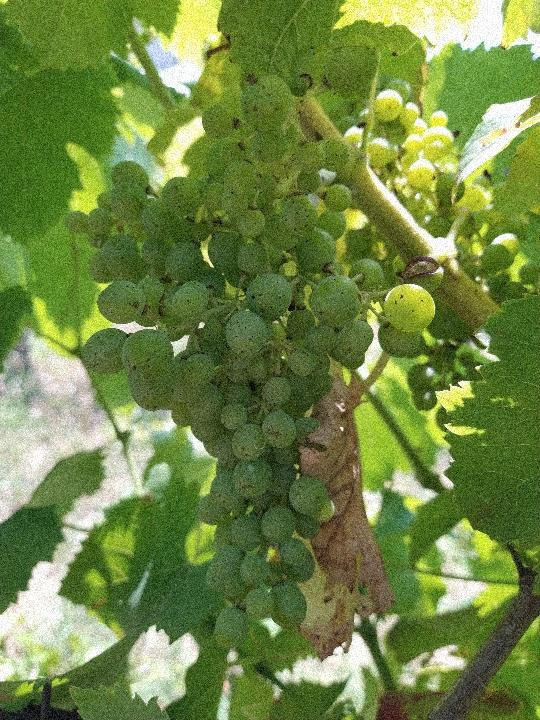grape: (65, 30, 444, 649)
